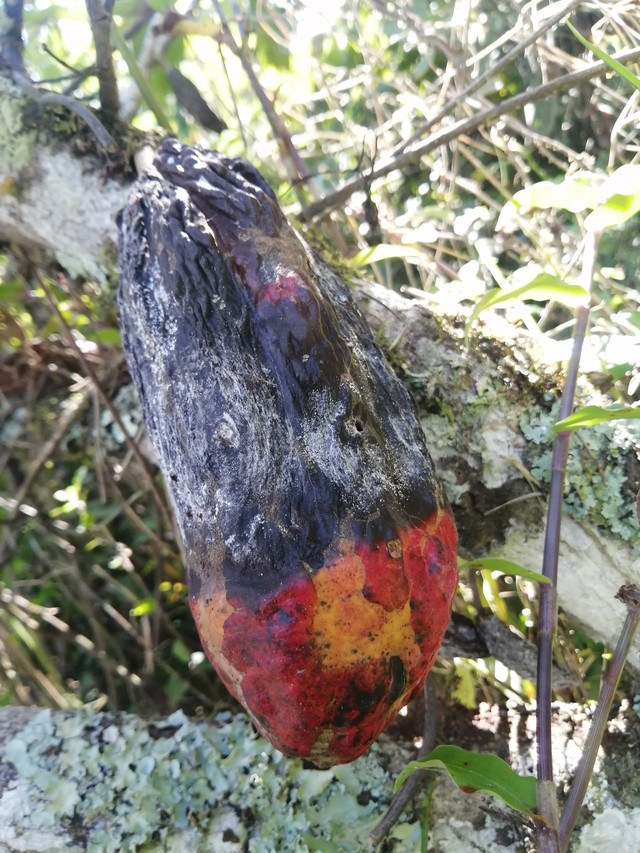moniliophthora roreri: (98, 124, 466, 779)
